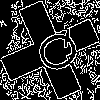Q: (25, 25, 85, 81)
